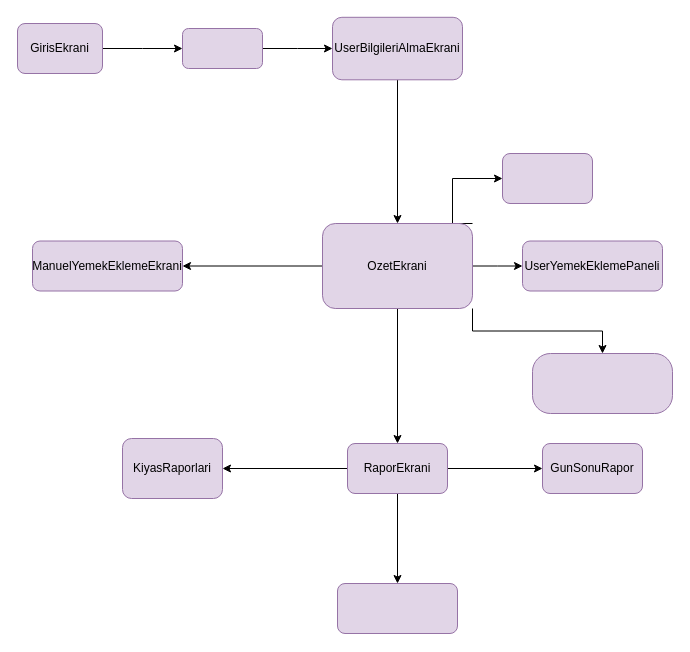
This 690x652 diagram has some shape labels left out. The shapes that lost their labels are listed below. From the top down, each one's centre as x and y in pixels, then its label:
pixel 222 48: UyeOl
pixel 547 178: SuTakipEkrani
pixel 602 383: YemekGuncellemePaneli
pixel 397 608: YemekCesidiRaporu
